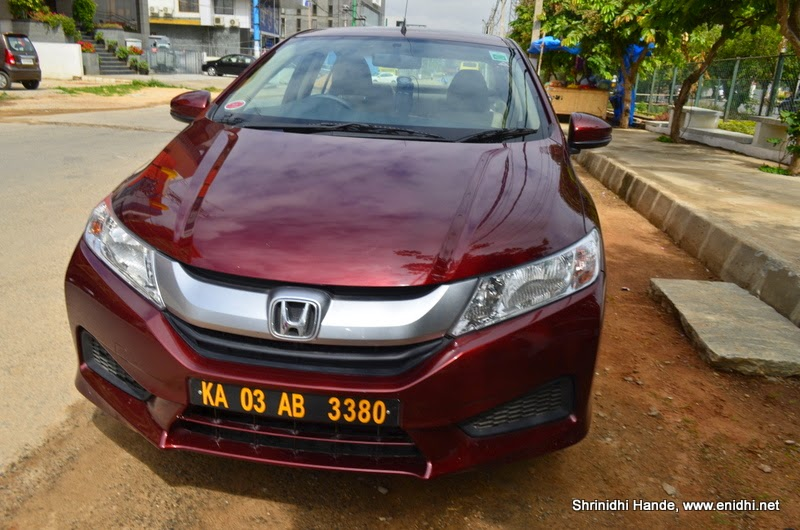number_plate: (185, 374, 399, 429)
